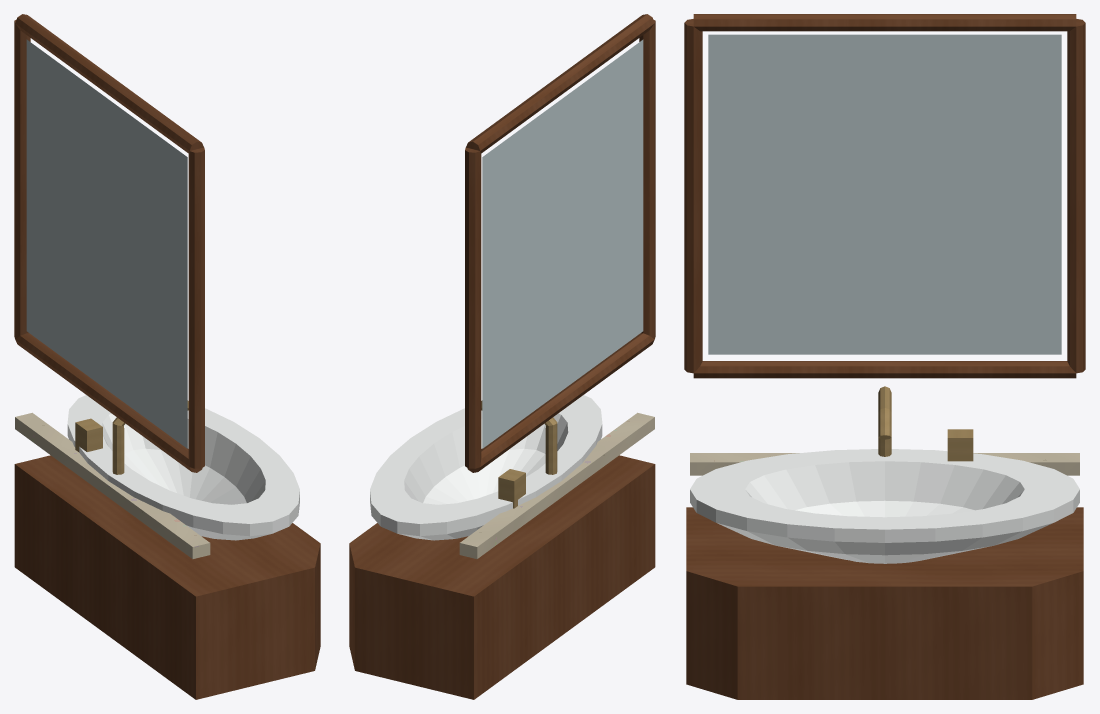
File: AST-SAN-001.glb
The picture shows the model from 3 angles, left to right: view 1: azimuth 30°, elevation 25°; view 2: azimuth 150°, elevation 25°; view 3: azimuth 270°, elevation 25°; orthographic projection. The views are drawn at different scales.
Parts seen in each view (by area): view 1: AST-SAN-001_fixed_warm_walnut, AST-SAN-001_fixed_mirror, AST-SAN-001_fixed_porcelain, AST-SAN-001_fixed_warm_stone, AST-SAN-001_fixed_champagne_metal; view 2: AST-SAN-001_fixed_warm_walnut, AST-SAN-001_fixed_mirror, AST-SAN-001_fixed_porcelain, AST-SAN-001_fixed_warm_stone, AST-SAN-001_fixed_champagne_metal; view 3: AST-SAN-001_fixed_mirror, AST-SAN-001_fixed_warm_walnut, AST-SAN-001_fixed_porcelain, AST-SAN-001_fixed_warm_stone, AST-SAN-001_fixed_champagne_metal.
Part boxes in pixels (x1,y1,x2,y2): AST-SAN-001_fixed_warm_walnut: [14, 14, 320, 699]; AST-SAN-001_fixed_mirror: [26, 39, 187, 448]; AST-SAN-001_fixed_porcelain: [67, 395, 299, 540]; AST-SAN-001_fixed_warm_stone: [15, 412, 210, 558]; AST-SAN-001_fixed_champagne_metal: [75, 400, 188, 474]; AST-SAN-001_fixed_warm_walnut: [349, 14, 655, 699]; AST-SAN-001_fixed_mirror: [482, 39, 643, 448]; AST-SAN-001_fixed_porcelain: [370, 395, 602, 540]; AST-SAN-001_fixed_warm_stone: [459, 412, 654, 558]; AST-SAN-001_fixed_champagne_metal: [481, 400, 557, 508]; AST-SAN-001_fixed_mirror: [708, 34, 1061, 354]; AST-SAN-001_fixed_warm_walnut: [684, 14, 1085, 699]; AST-SAN-001_fixed_porcelain: [690, 449, 1079, 563]; AST-SAN-001_fixed_warm_stone: [690, 453, 1079, 475]; AST-SAN-001_fixed_champagne_metal: [878, 386, 973, 461].
Bounding box in the file's own units: 0.54 × 1.83 × 1.09.
Materials: 5 (3 with a texture image).
